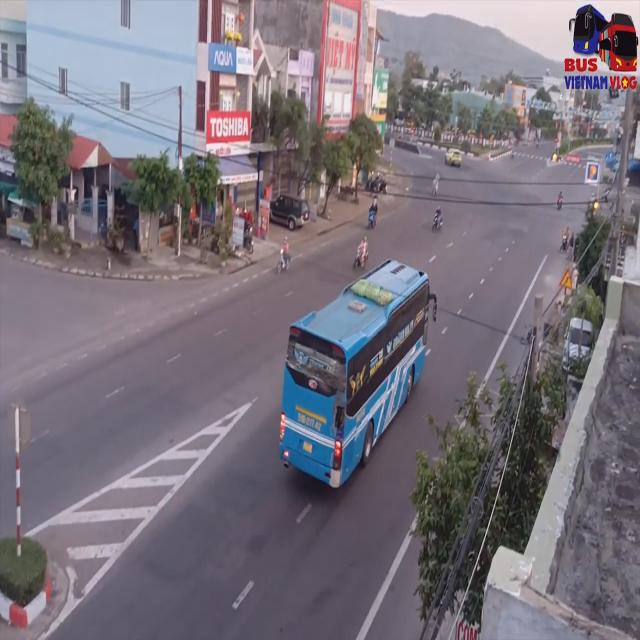bus: (284, 257, 443, 494)
motorbike: (354, 234, 368, 272), (278, 235, 291, 275)
